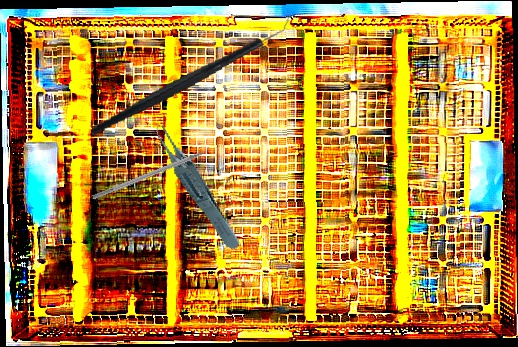Chopper: (79, 11, 302, 137)
Hook Surgical: (90, 141, 227, 202)
Tissue Forceps: (151, 103, 243, 261)
